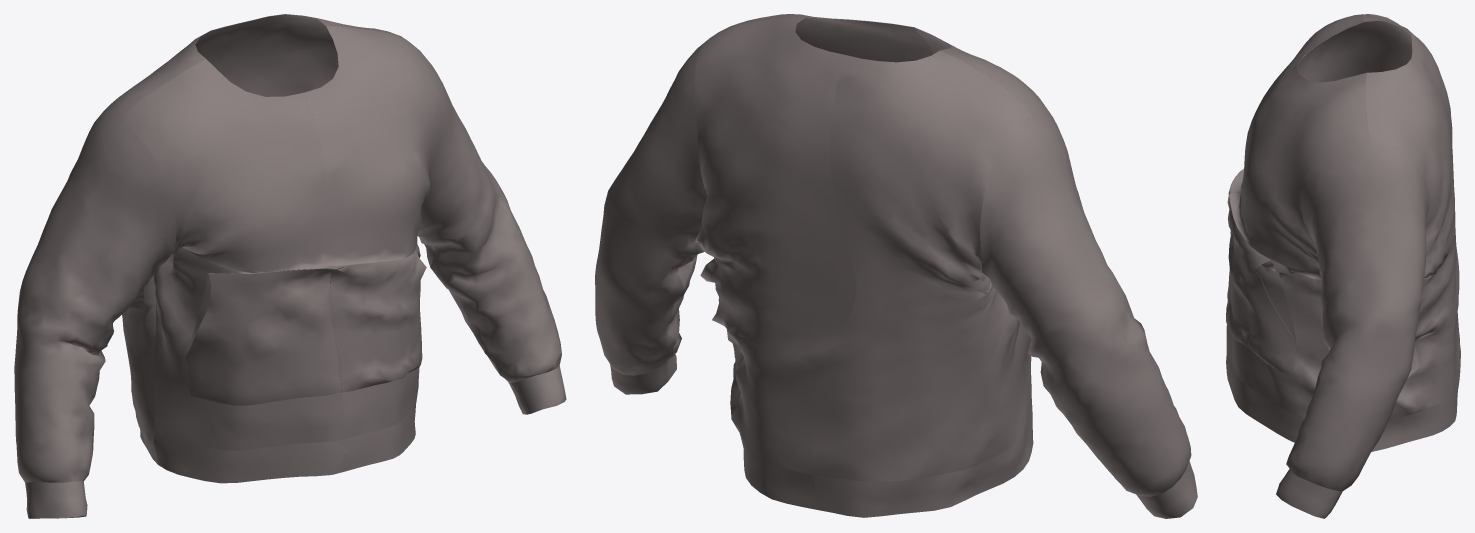
Rendered from svitshot.glb.
3 views of the same model, side by side, from view 1: azimuth 30°, elevation 25°; view 2: azimuth 150°, elevation 25°; view 3: azimuth 270°, elevation 25° (orthographic). The views are drawn at different scales.
Parts seen in each view (by area): view 1: svitshot; view 2: svitshot; view 3: svitshot.
Part boxes in pixels (x1=…): svitshot: x1=14, y1=14, x2=566, y2=518; svitshot: x1=595, y1=14, x2=1197, y2=518; svitshot: x1=1226, y1=14, x2=1460, y2=518.
Size of the model in its own units: 8.68 by 6.37 by 3.73.
Materials: 1 (1 with a texture image).
